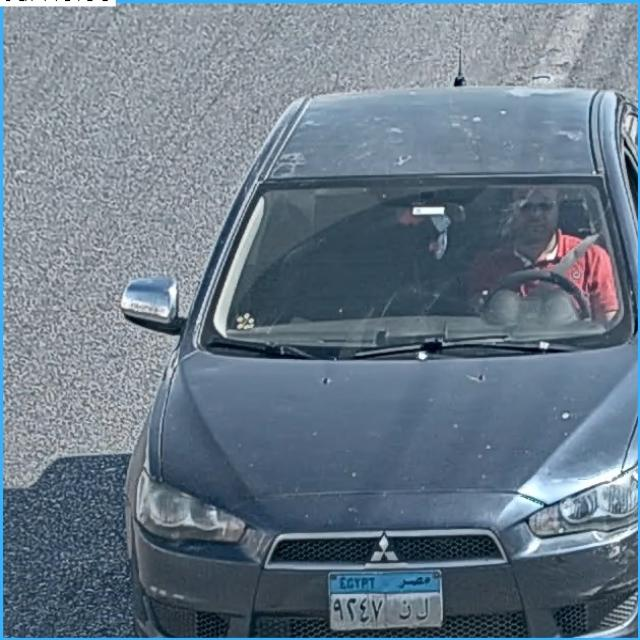windshield: (208, 178, 619, 341)
